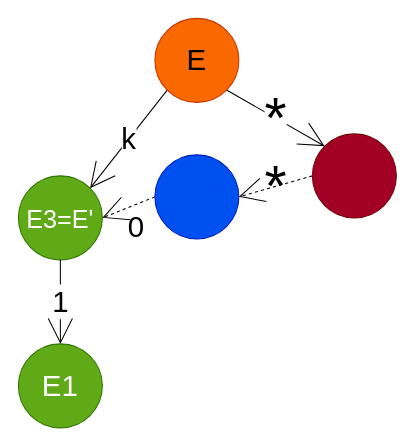
Image size: 415x446. Some labels were removed from this diagram. Each missing label, with the centre of its shape:
E': the point at 196,196
E2: the point at 353,175
